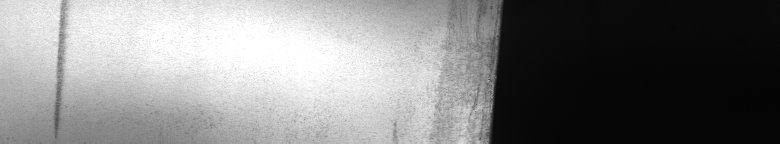hd: (47, 4, 72, 136)
